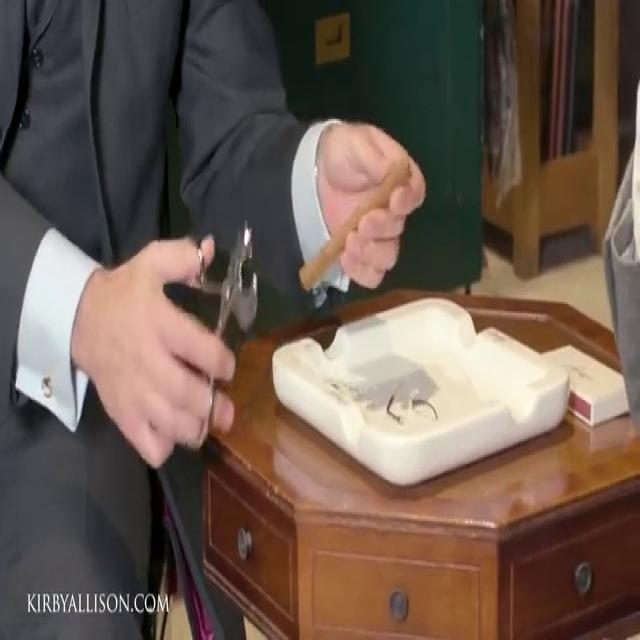Smooking: (299, 153, 423, 318)
